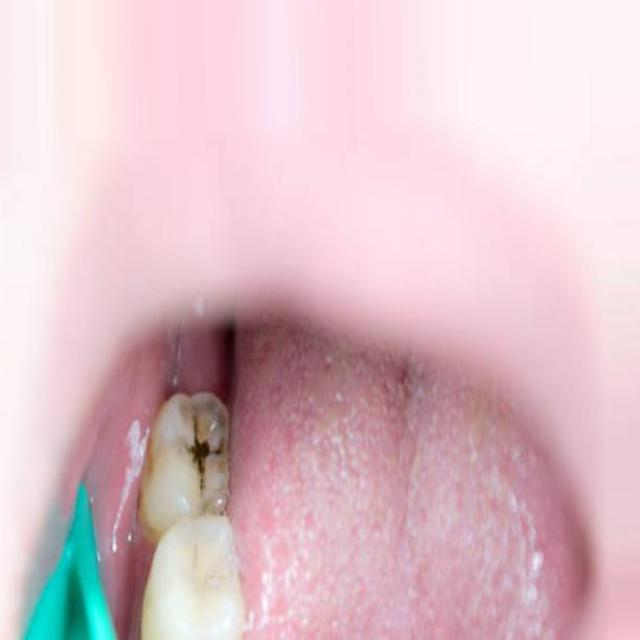caries: (174, 396, 230, 502)
